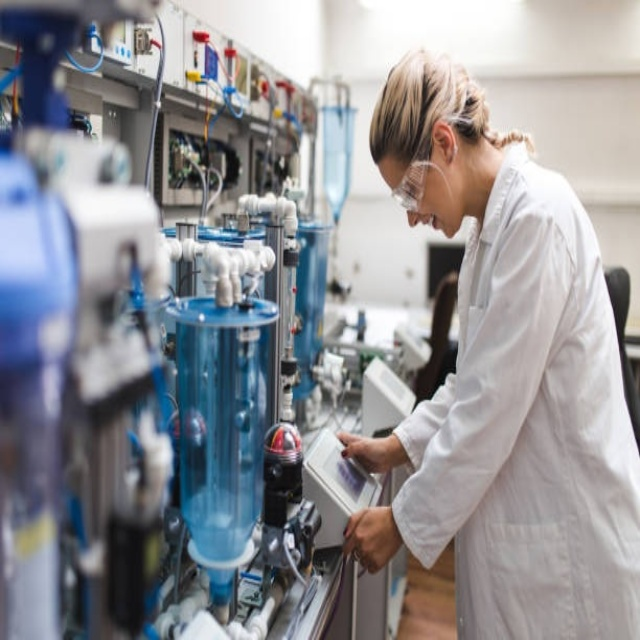Gafas: (391, 125, 436, 210)
Sin_guantes: (338, 502, 399, 575), (337, 429, 401, 479)
Sin_mascara: (421, 202, 453, 237)
